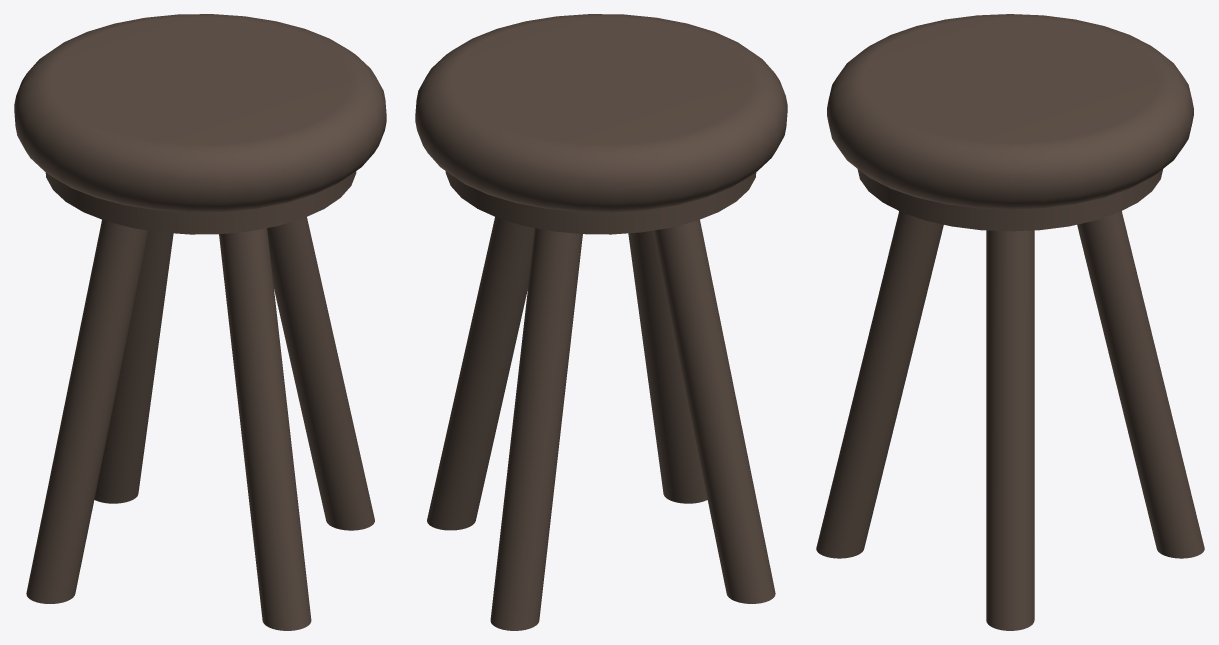
File: Tabouret3_2.fbx
3 views of the same model, side by side, from view 1: azimuth 30°, elevation 25°; view 2: azimuth 150°, elevation 25°; view 3: azimuth 270°, elevation 25° (orthographic).
Parts seen in each view (by area): view 1: polySurface972, pCylinder1640, pCylinder1641; view 2: polySurface972, pCylinder1640, pCylinder1641; view 3: pCylinder1640, polySurface972, pCylinder1641.
Boxes of the visible parts, box(x1,y1,x2,y2) form: polySurface972: box(26, 217, 374, 630); pCylinder1640: box(14, 14, 386, 212); pCylinder1641: box(45, 171, 356, 234); polySurface972: box(427, 217, 775, 630); pCylinder1640: box(415, 14, 787, 212); pCylinder1641: box(445, 171, 756, 234); pCylinder1640: box(827, 14, 1193, 209); polySurface972: box(816, 211, 1204, 630); pCylinder1641: box(857, 169, 1162, 231).
Bounding box in the file's own units: 39.54 × 52.62 × 39.53.
